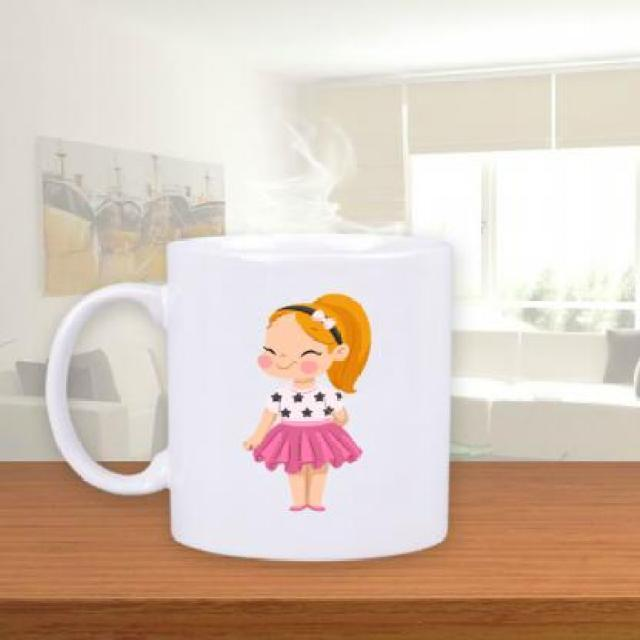taza: (44, 229, 453, 563)
